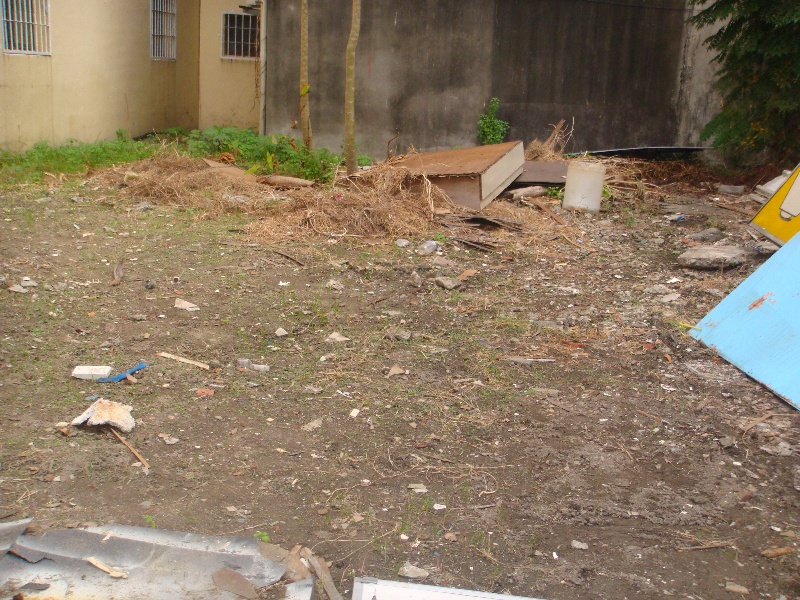bucket: (561, 157, 606, 215)
